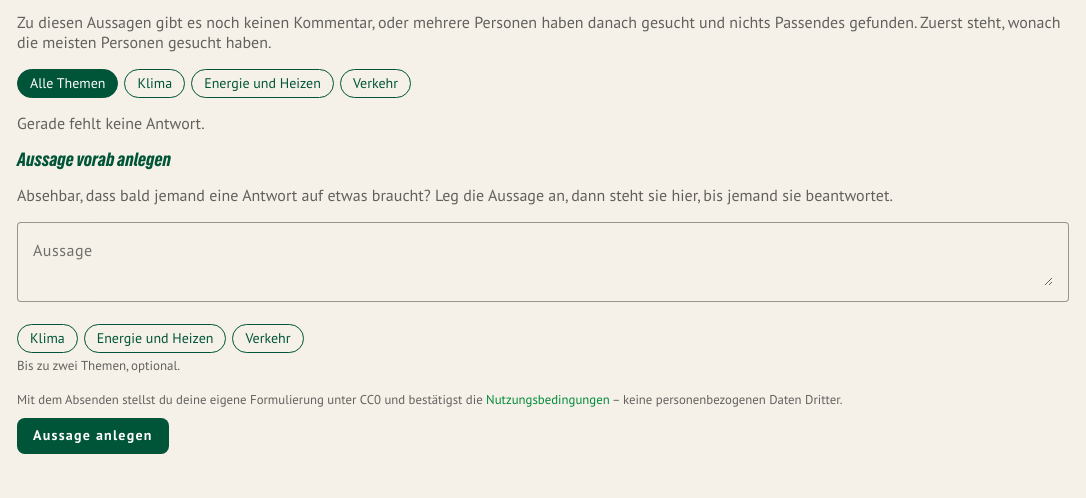
Test: HierFehltEineAntwortComponent › Aussage vorab anlegen › schickt die gewählten Themen mit
This screenshot has width=1086, height=498.
Type "Das Heizungsgesetz enteignet uns" into the text box named "aussage" at (543, 262), box [33,238,1053,286]
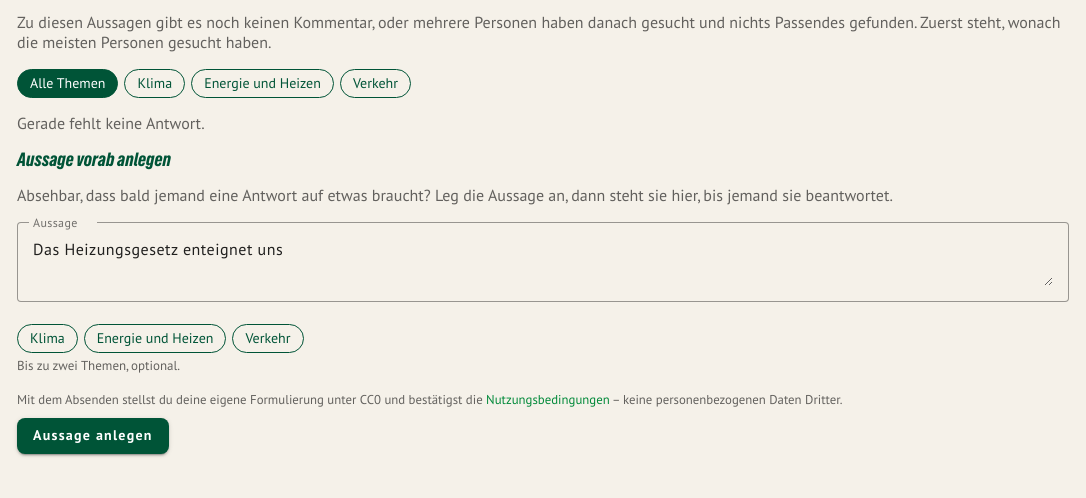
Click the button "Energie und Heizen" below "Aussage vorab anlegen" at (155, 338), box [84,324,226,353]
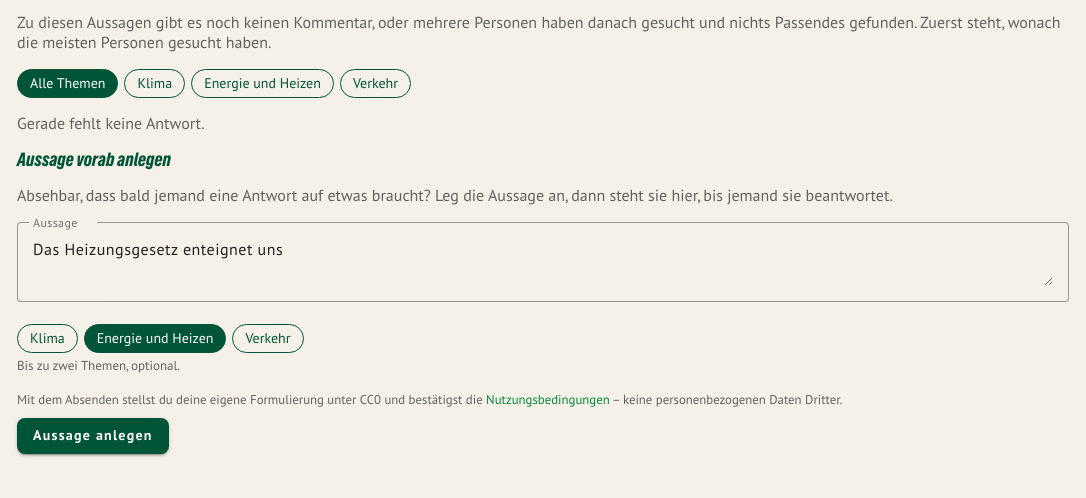
Click the button with class "aussage-anlegen" at (93, 436), box [17,418,169,454]
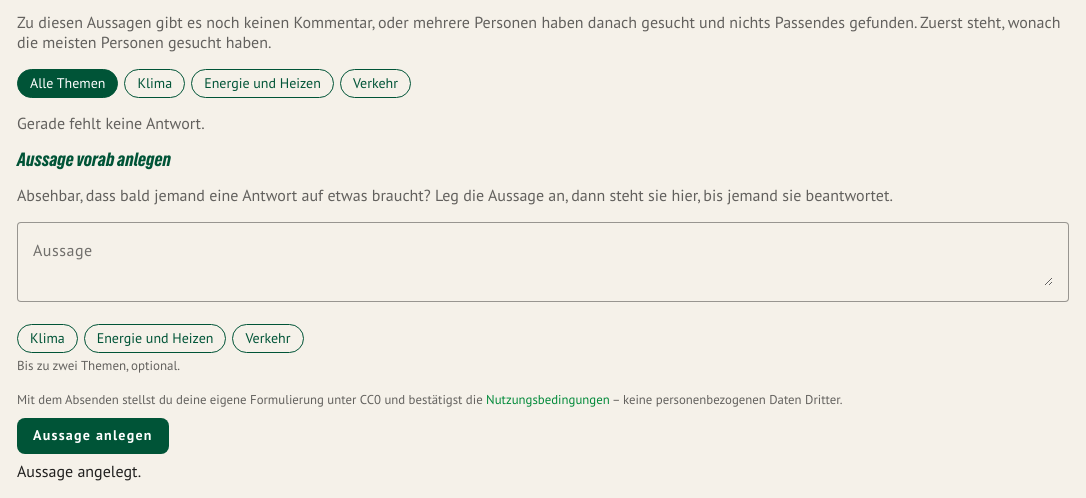
Check: the text "Aussage angelegt." is shown, box [17,463,141,481]
